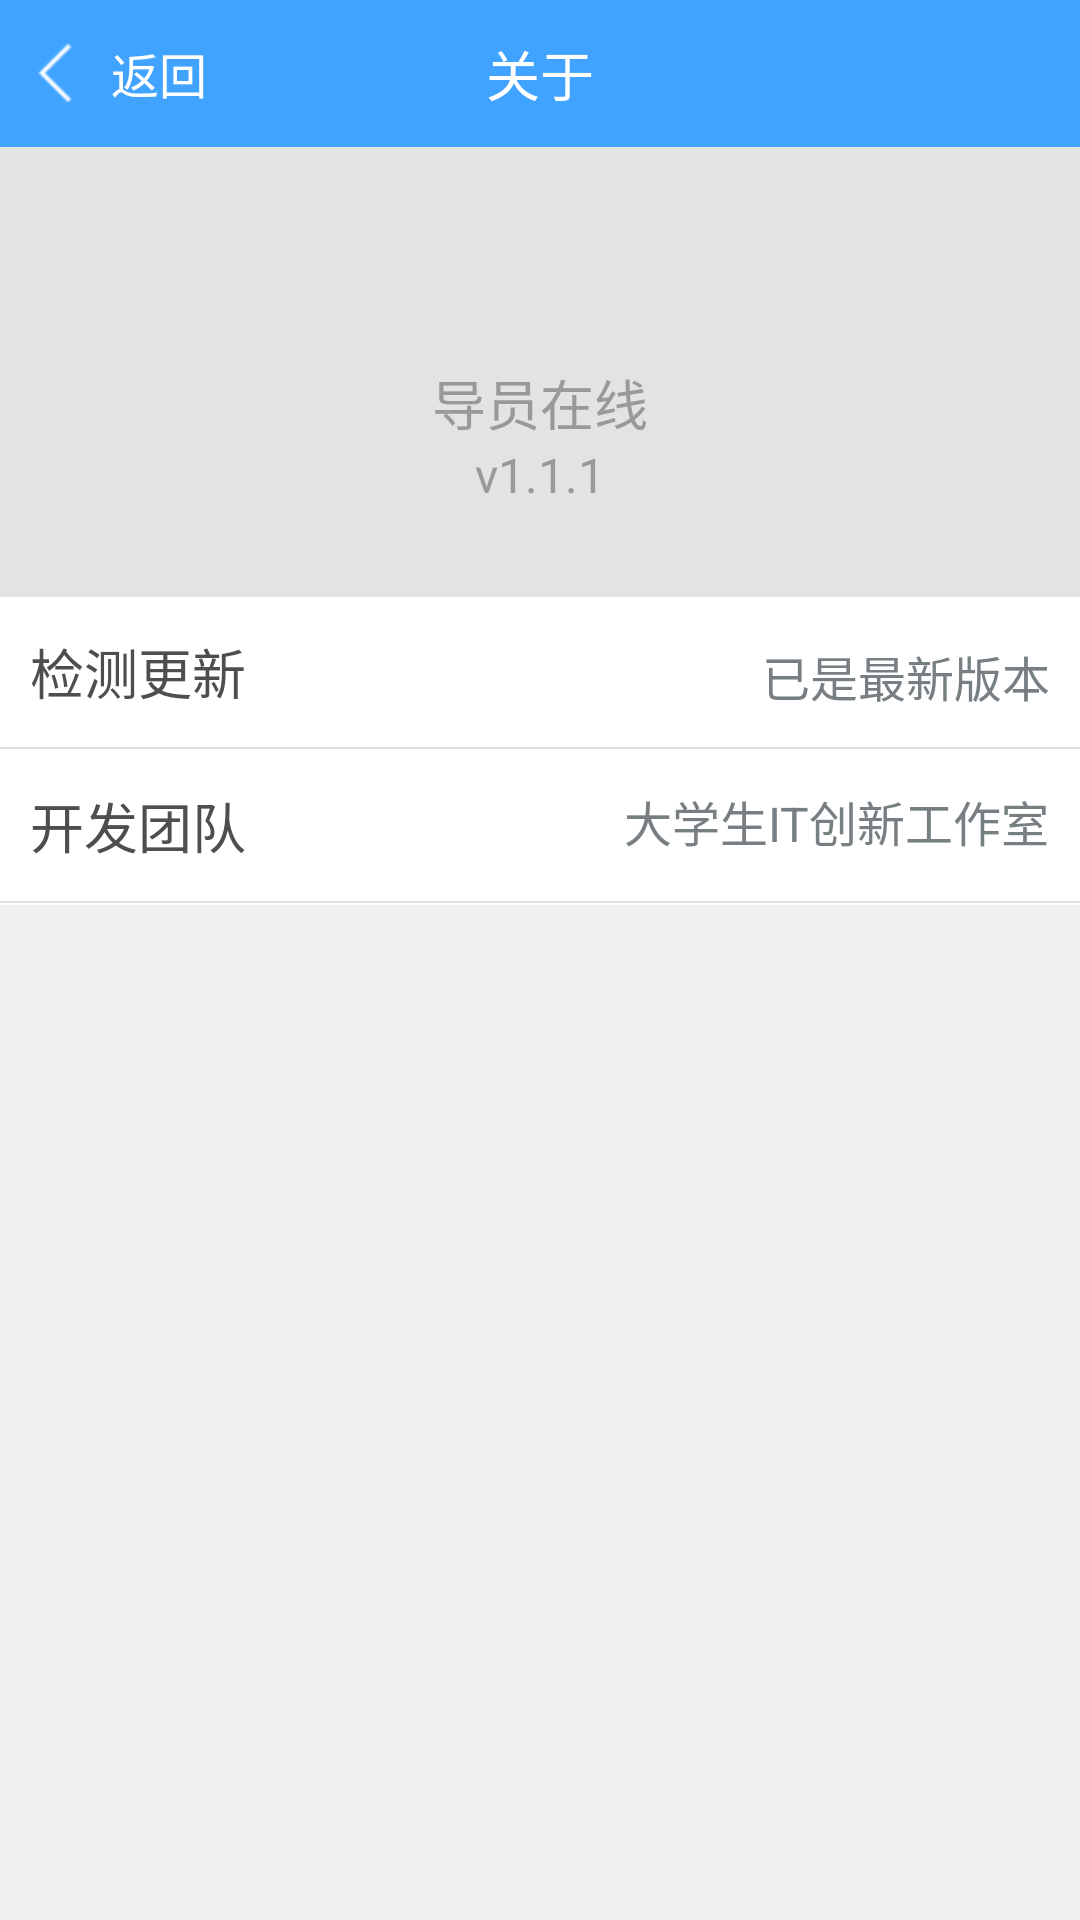

Where icons sit on this 1080*1920 app screen, as [x1, y1, x2, y2]:
arrow back: [38, 43, 72, 103]
